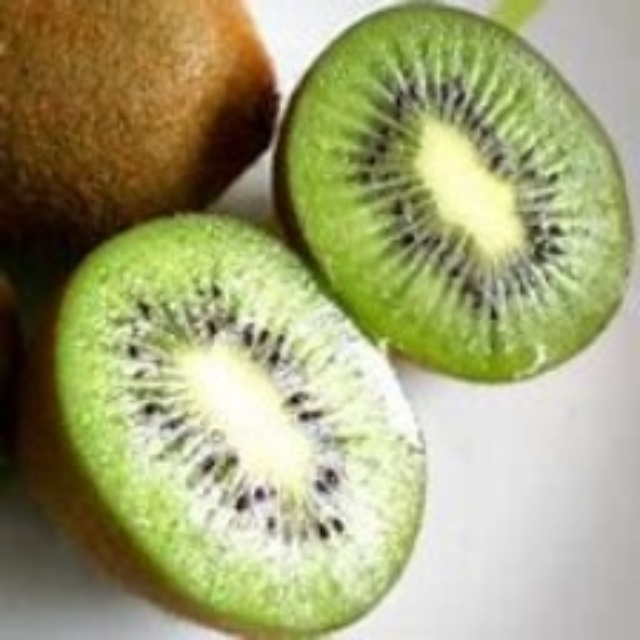kiwi: (34, 214, 425, 633), (280, 2, 639, 385), (9, 2, 290, 257)
